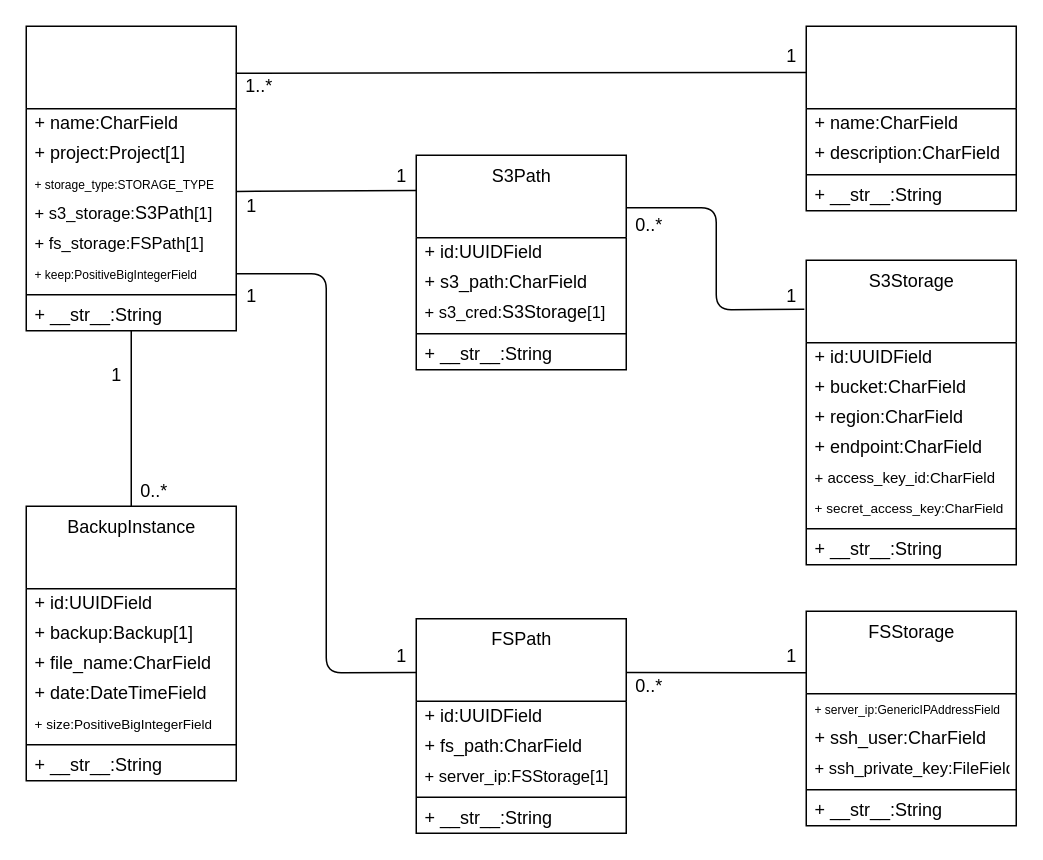
This 1043x860 diagram has some shape labels left out. Each missing label, with the box of its shape:
Backup: (25, 25, 236, 331)
Project: (805, 25, 1016, 211)
